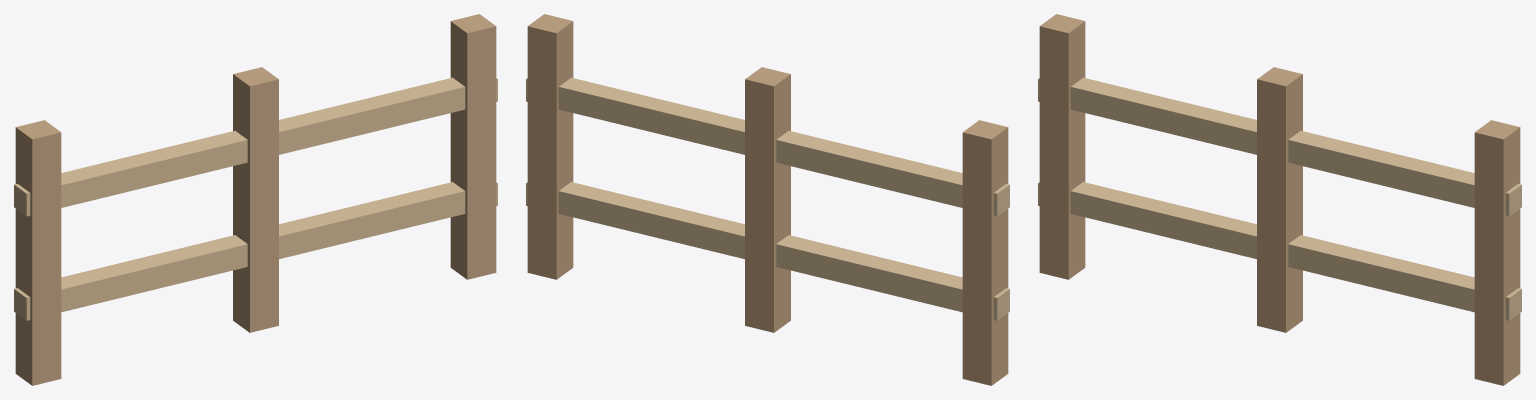
Rendered from wood_fence.glb.
The picture shows the model from 3 angles, left to right: view 1: azimuth 30°, elevation 25°; view 2: azimuth 150°, elevation 25°; view 3: azimuth 330°, elevation 25°; orthographic projection.
Parts seen in each view (by area): view 1: post (×3), rail (×2); view 2: post (×3), rail (×2); view 3: post (×3), rail (×2).
Part boxes in pixels (x1,y1,x2,y2): post (×3): (15,14,496,385); rail (×2): (14,77,497,320); post (×3): (527,14,1008,385); rail (×2): (526,77,1009,320); post (×3): (1039,14,1520,385); rail (×2): (1038,77,1521,320).
Size of the model in its own units: 2.6 by 1.3 by 0.16.
